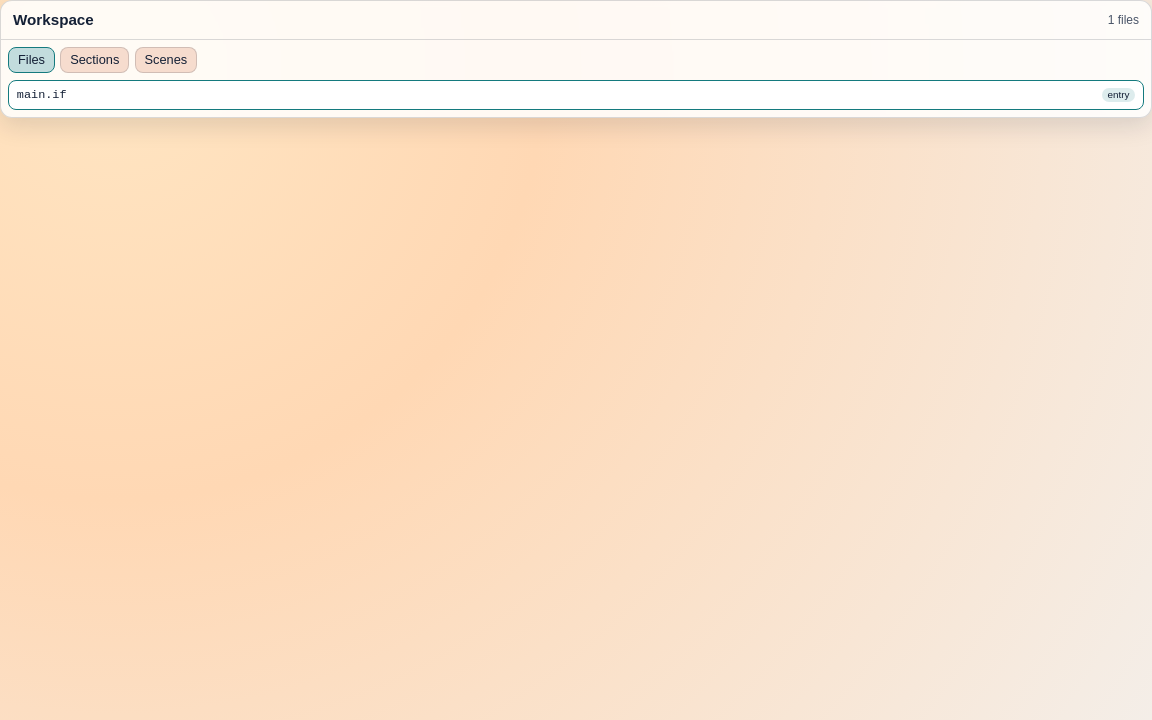
Test case: Sidebar › scenes mode shows first unresolved badge
The width and height of the screenshot is (1152, 720).
Step 1. Click the button "Scenes" → (166, 60), box [135,47,197,73]
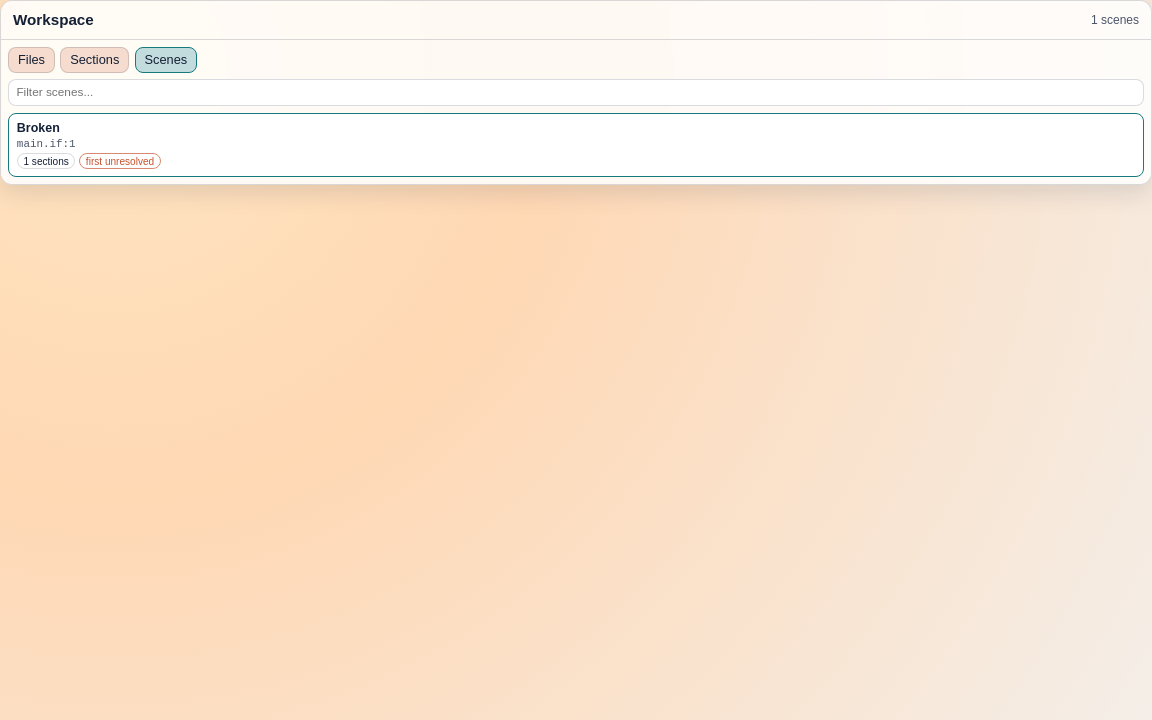
Check: the text "first unresolved" is shown, box [79,153,161,169]
